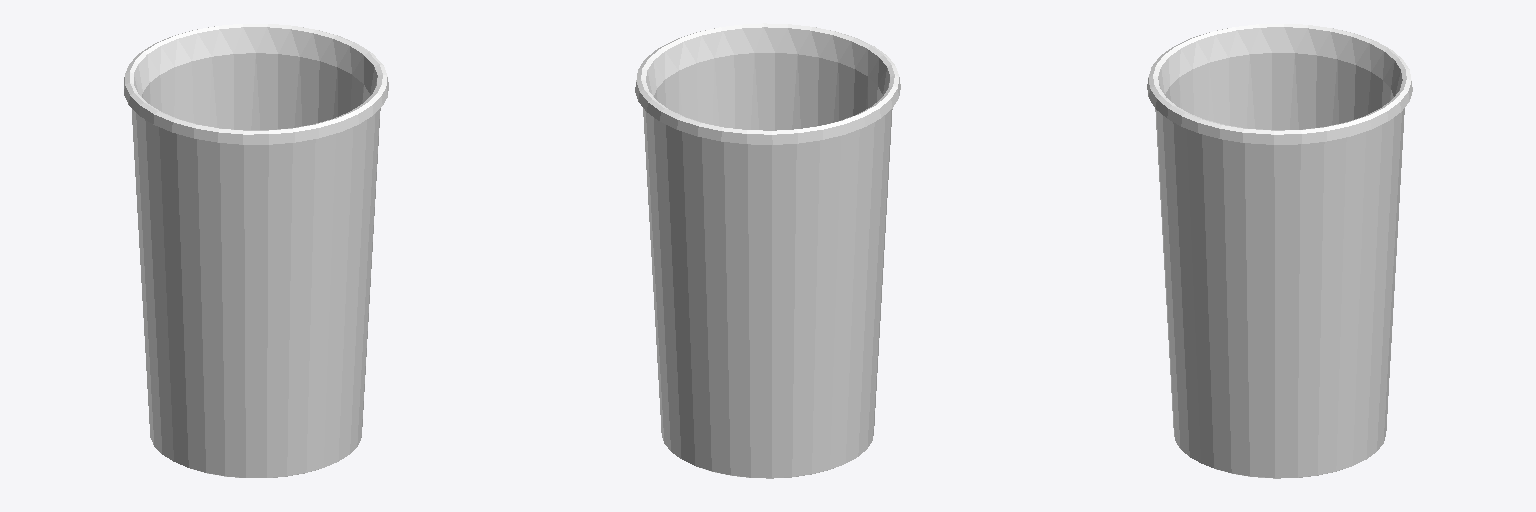
Rendered from cup.obj.
The picture shows the model from 3 angles: view 1: azimuth 30°, elevation 25°; view 2: azimuth 150°, elevation 25°; view 3: azimuth 270°, elevation 25°; orthographic projection.
Parts seen in each view (by area): view 1: Plastic_Cup; view 2: Plastic_Cup; view 3: Plastic_Cup.
Part boxes in pixels (x1,y1,x2,y2): Plastic_Cup: (124,24,388,477); Plastic_Cup: (635,23,900,478); Plastic_Cup: (1147,23,1412,478).
Size of the model in its own units: 1.54 by 2.29 by 1.54.